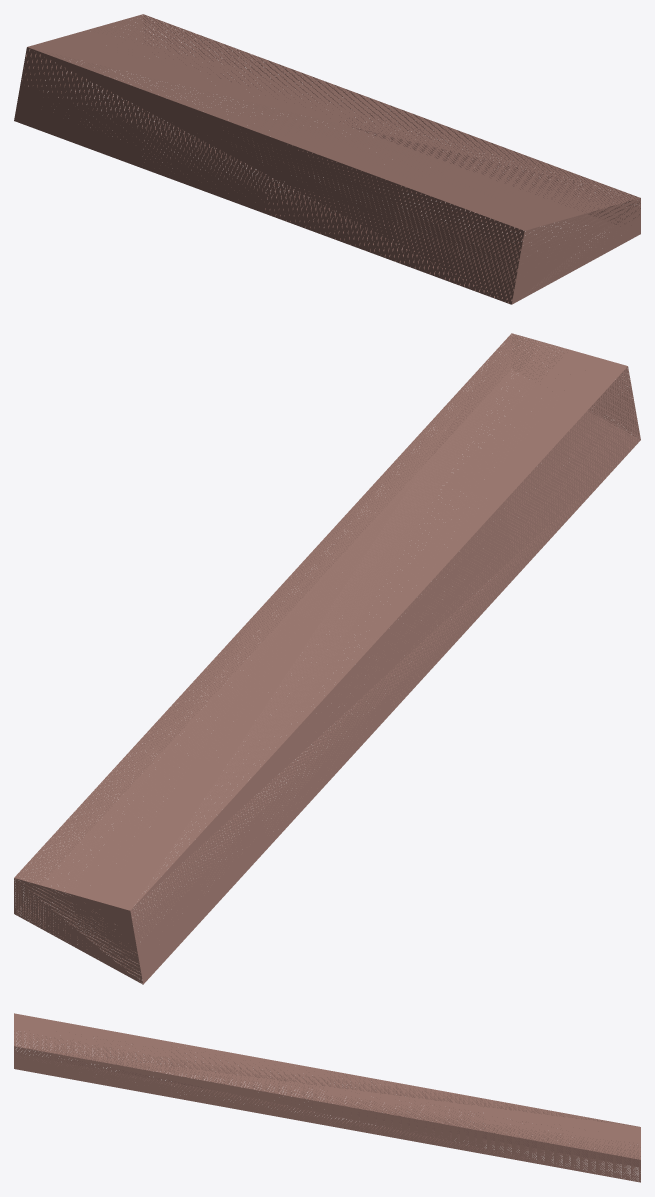
Rendered from SW_ENV_EL_TrackBase_Walkway_Rise_Side_10m_Collision.fbx.
The picture shows the model from 3 angles, top to bottom: view 1: azimuth 30°, elevation 25°; view 2: azimuth 150°, elevation 25°; view 3: azimuth 270°, elevation 25°; orthographic projection. The views are drawn at different scales.
Parts seen in each view (by area): view 1: SW_ENV_EL_TrackBase_Walkway_Rise_Side_10m_Collision; view 2: SW_ENV_EL_TrackBase_Walkway_Rise_Side_10m_Collision; view 3: SW_ENV_EL_TrackBase_Walkway_Rise_Side_10m_Collision.
Part boxes in pixels (x1,y1,x2,y2): SW_ENV_EL_TrackBase_Walkway_Rise_Side_10m_Collision: [14, 14, 640, 304]; SW_ENV_EL_TrackBase_Walkway_Rise_Side_10m_Collision: [14, 333, 640, 984]; SW_ENV_EL_TrackBase_Walkway_Rise_Side_10m_Collision: [14, 1013, 640, 1182].
Size of the model in its own units: 150 by 283 by 1000.
